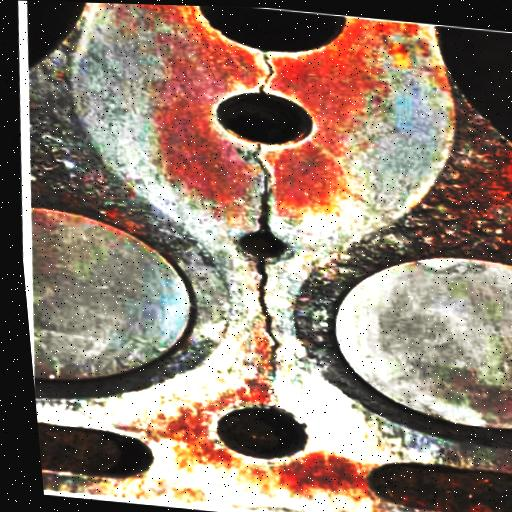crack: (239, 140, 295, 241), (243, 254, 291, 353), (251, 47, 285, 100)
